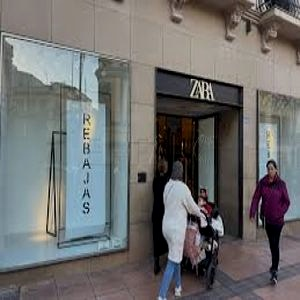zara: (117, 38, 300, 114)
